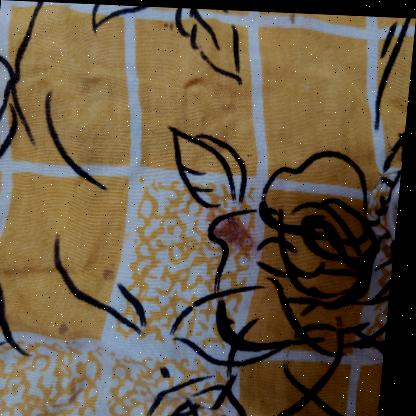spot: (208, 209, 276, 259), (105, 258, 123, 282), (162, 18, 177, 31)
